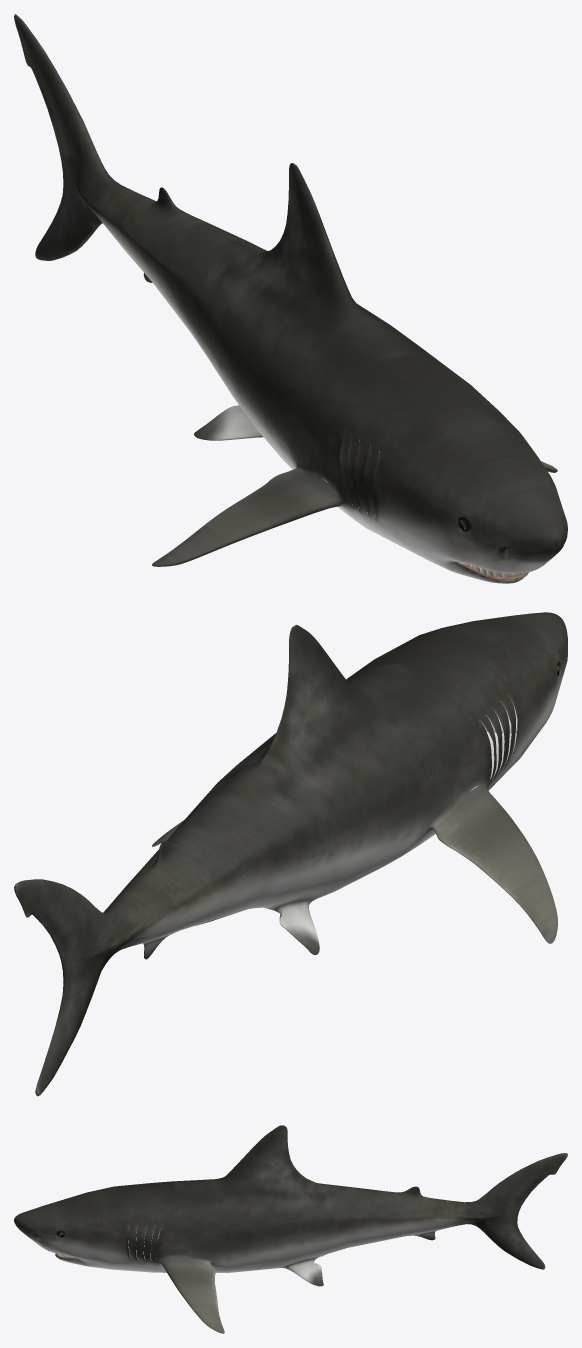
The model's file is shark.obj.
The picture shows the model from 3 angles, top to bottom: view 1: azimuth 30°, elevation 25°; view 2: azimuth 150°, elevation 25°; view 3: azimuth 270°, elevation 25°; orthographic projection. The views are drawn at different scales.
Parts seen in each view (by area): view 1: WSHBODYF; view 2: WSHBODYF; view 3: WSHBODYF.
Boxes of the visible parts, box(x1,y1,x2,y2) form: WSHBODYF: box(14, 14, 567, 583); WSHBODYF: box(14, 612, 567, 1096); WSHBODYF: box(14, 1125, 567, 1333).
Size of the model in its own units: 2770 by 2058 by 6512.
Materials: 2 (1 with a texture image).
